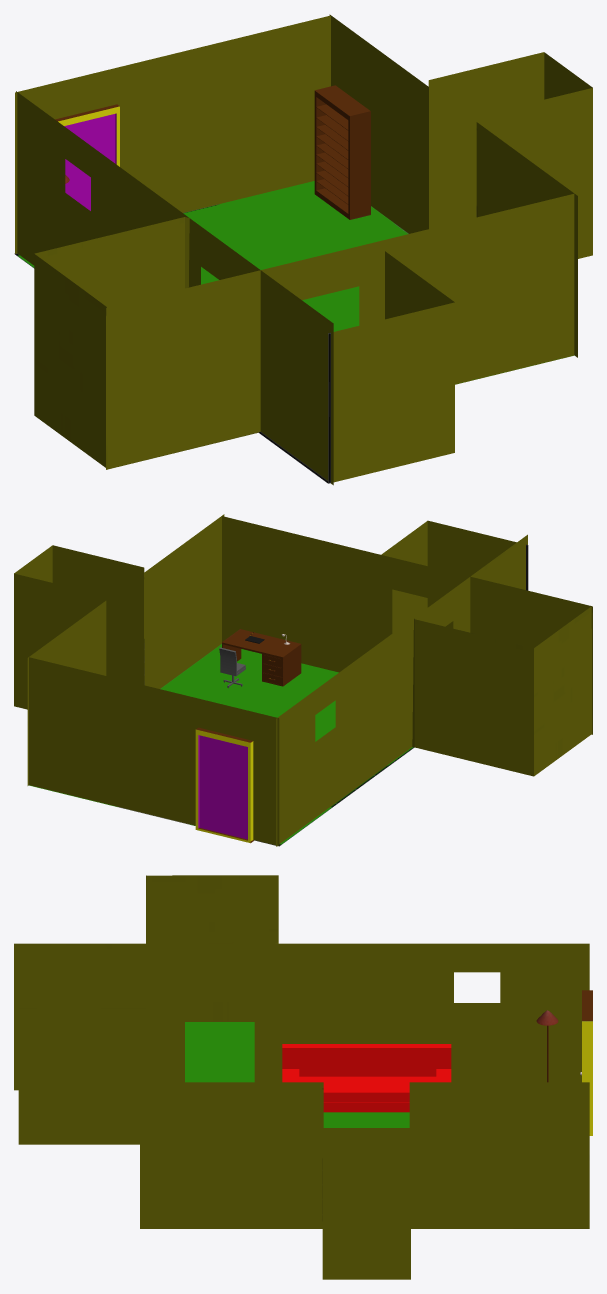
The model's file is environment.fbx.
3 renders of one model, top to bottom at view 1: azimuth 30°, elevation 25°; view 2: azimuth 150°, elevation 25°; view 3: azimuth 270°, elevation 25°, orthographic. The views are drawn at different scales.
Visible parts, largest first — view 1: door_exit1; view 2: door_exit1; view 3: door_exit1.
Part boxes in pixels (bbox=[...]): door_exit1: bbox=[14, 14, 592, 485]; door_exit1: bbox=[14, 514, 592, 846]; door_exit1: bbox=[14, 875, 592, 1279].
Bounding box in the file's own units: 55.32 × 15.34 × 52.39.
